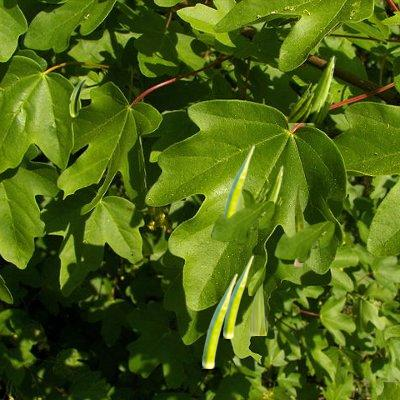okra: (286, 55, 335, 121), (202, 273, 236, 367), (223, 255, 252, 337), (223, 145, 253, 216), (254, 165, 283, 219), (248, 283, 266, 334), (294, 184, 303, 266), (69, 78, 85, 116)
